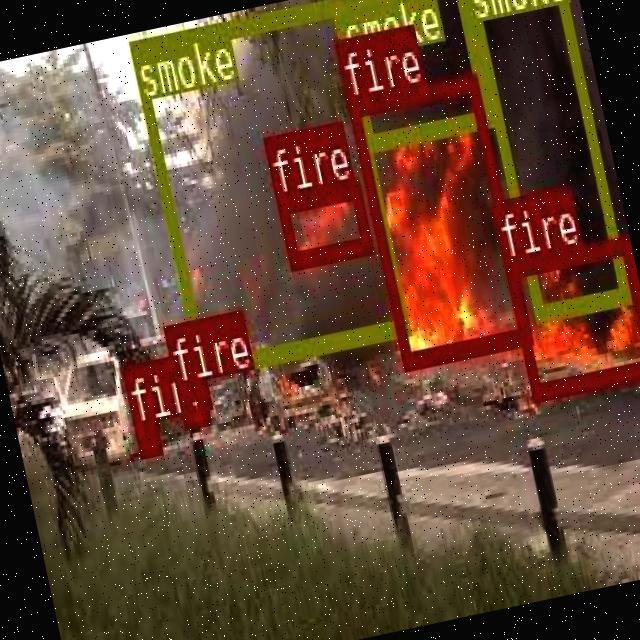fire: (344, 70, 530, 366), (501, 235, 640, 396), (274, 180, 372, 268), (174, 379, 206, 424), (134, 420, 160, 456)
smoke: (126, 0, 408, 376), (458, 0, 628, 317), (331, 0, 490, 147)
